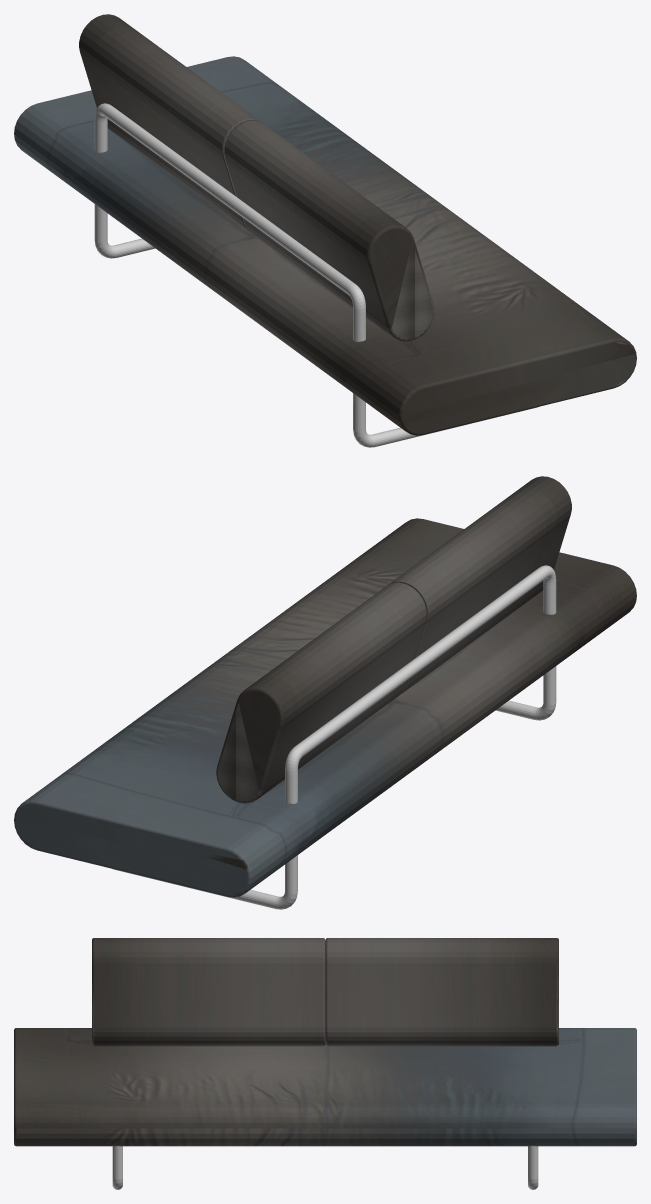
The model's file is sofa.dae.
3 views of the same model, one above another, from view 1: azimuth 30°, elevation 25°; view 2: azimuth 150°, elevation 25°; view 3: azimuth 270°, elevation 25° (orthographic). The views are drawn at different scales.
Parts seen in each view (by area): view 1: za, head, fulcrum, leg (×2); view 2: za, head, fulcrum, leg (×2); view 3: za, head, leg (×2).
Boxes of the visible parts, left/top/right/bottom form: za: left=14, top=56, right=636, bottom=435; head: left=79, top=14, right=434, bottom=341; fulcrum: left=94, top=103, right=365, bottom=341; leg (×2): left=94, top=204, right=537, bottom=447; za: left=14, top=518, right=636, bottom=897; head: left=216, top=476, right=571, bottom=803; fulcrum: left=285, top=565, right=556, bottom=803; leg (×2): left=113, top=666, right=556, bottom=909; za: left=14, top=1028, right=636, bottom=1146; head: left=92, top=938, right=558, bottom=1046; leg (×2): left=112, top=1146, right=538, bottom=1189.
Size of the model in its own units: 32.9 by 92.9 by 30.57.
3 materials, 2 textured.
